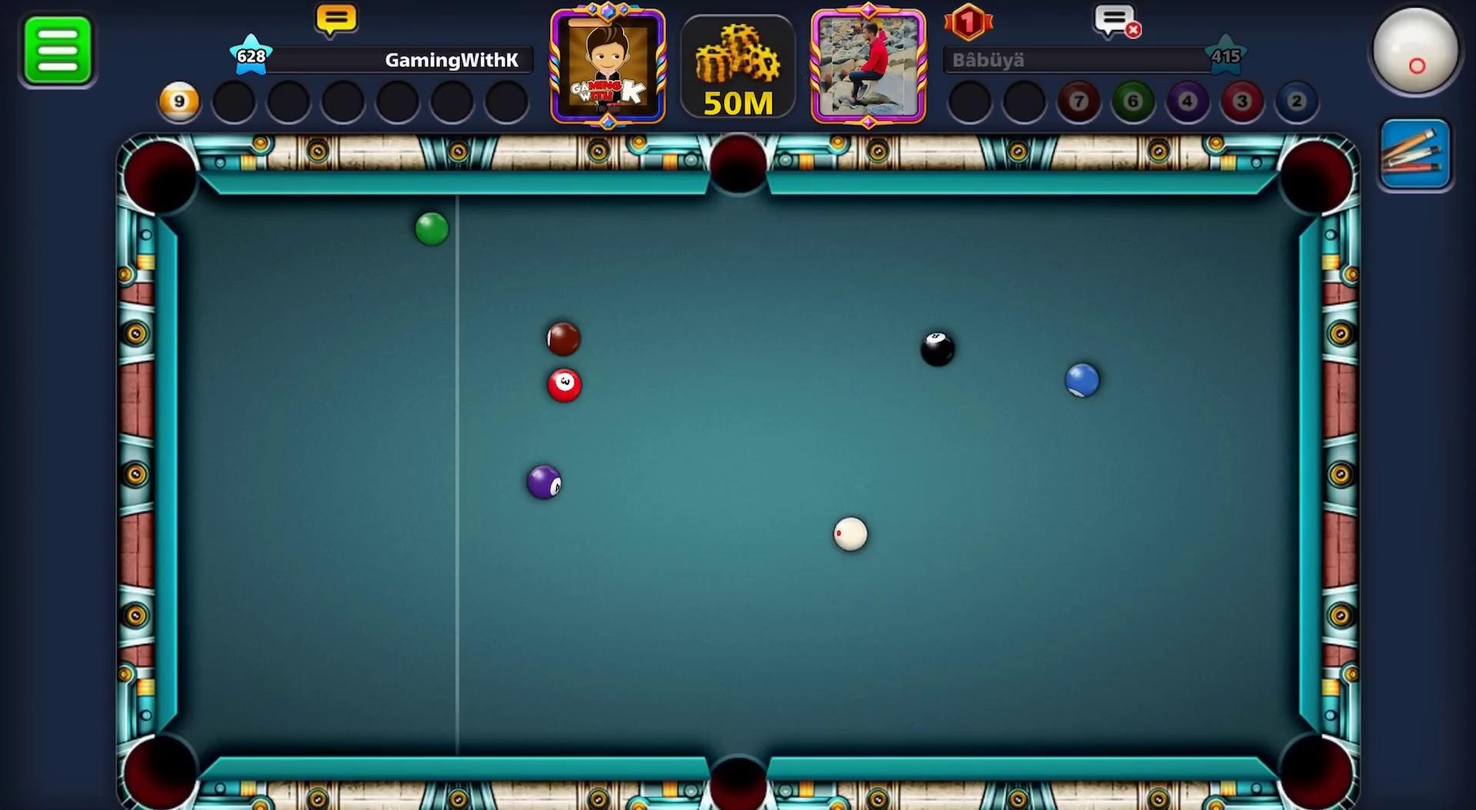Ball: (511, 452, 574, 506), (531, 316, 586, 365), (1059, 358, 1105, 408), (543, 357, 585, 408), (916, 329, 961, 372), (408, 211, 449, 250)
Hole: (102, 709, 223, 809), (1255, 708, 1370, 809), (106, 124, 210, 228), (1266, 126, 1364, 229), (683, 714, 778, 809), (700, 120, 788, 218)
Play_Area: (177, 194, 1298, 758)
Spin: (1362, 0, 1475, 111)
White: (828, 511, 873, 559)
